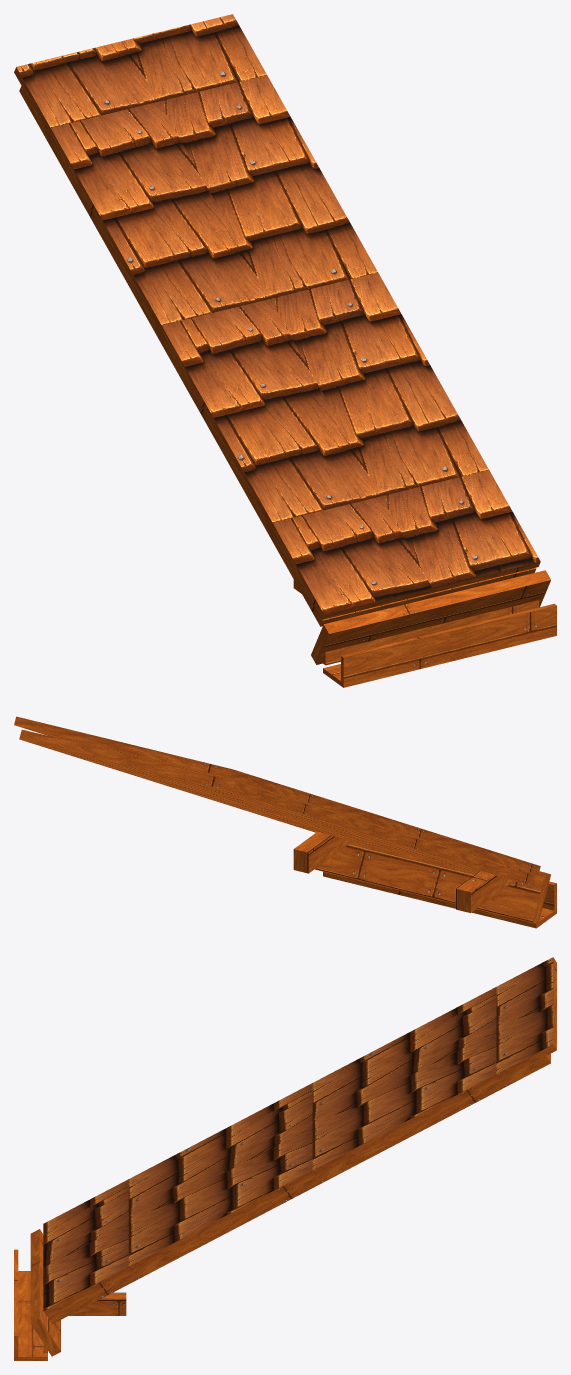
The model's file is Roof_Panel_1m.fbx.
3 views of the same model, one above another, from view 1: azimuth 30°, elevation 25°; view 2: azimuth 150°, elevation 25°; view 3: azimuth 270°, elevation 25° (orthographic). The views are drawn at different scales.
Parts seen in each view (by area): view 1: Roof_Panel_1m; view 2: Roof_Panel_1m; view 3: Roof_Panel_1m.
Part boxes in pixels (<box>): Roof_Panel_1m: <box>14,14,556,687</box>; Roof_Panel_1m: <box>14,716,556,928</box>; Roof_Panel_1m: <box>14,957,556,1360</box>.
Bounding box in the file's own units: 1 × 1.65 × 2.56.
